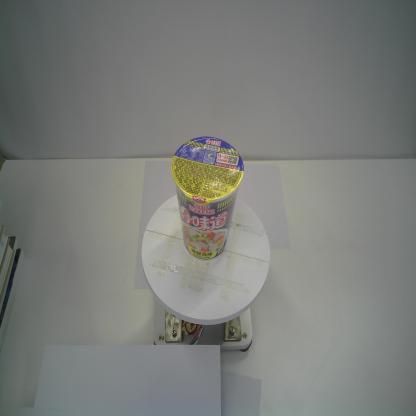Instant Noodles: (170, 135, 244, 260)
